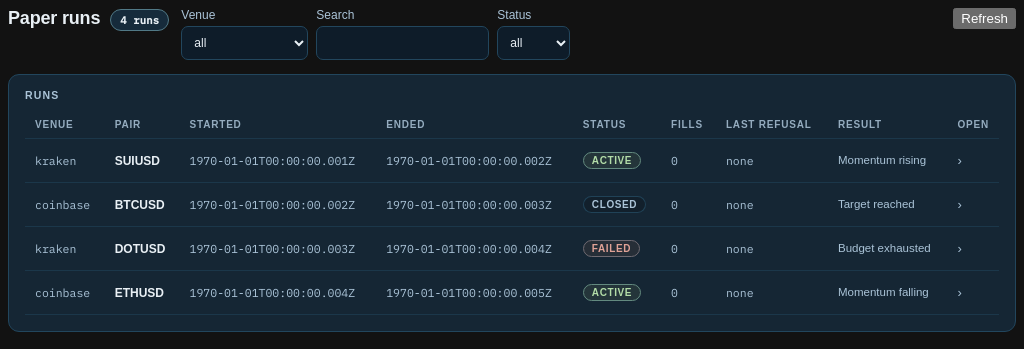
Test: LastRunsPanel read-only filters › clears all dimensions, restores rows, hides Clear and never re-fetches or mutates source
The width and height of the screenshot is (1024, 349).
Expected: the table with test id "paper-last-runs-table" is shown, [25, 111, 999, 315]
Select "Venue: kraken" in the dropdown named "Filter runs by venue": (245, 43) [181, 26, 308, 60]
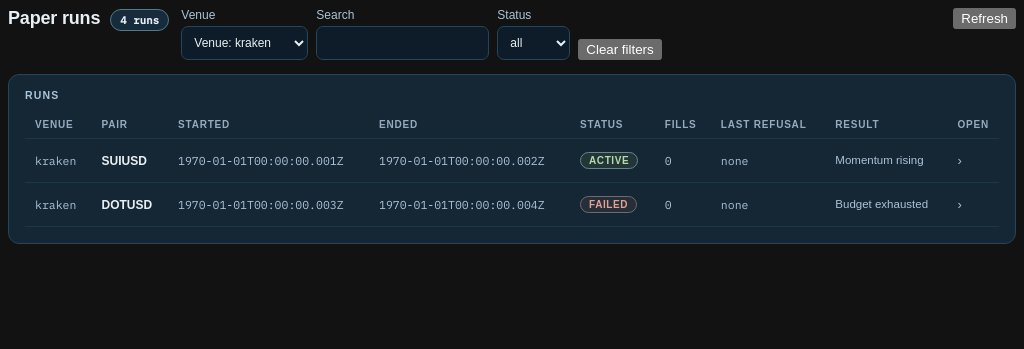
Select "failed" in the dropdown named "Filter runs by status": (534, 43) [497, 26, 570, 60]
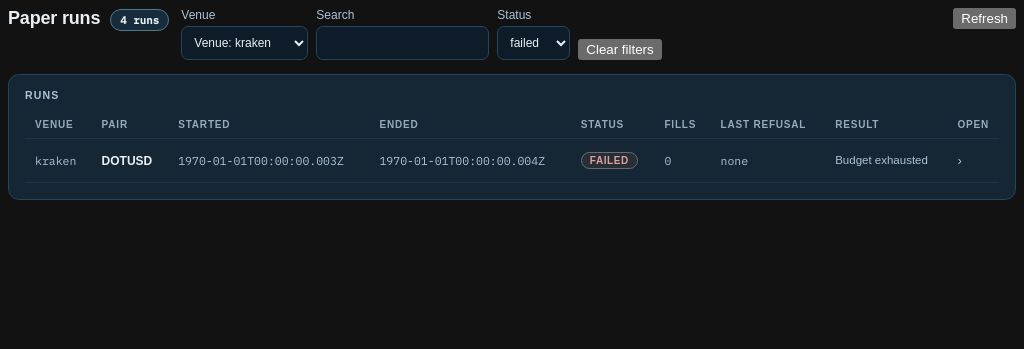
In the field named "Search runs by pack, pair or summary": (403, 43) [316, 26, 489, 60], type "budget"
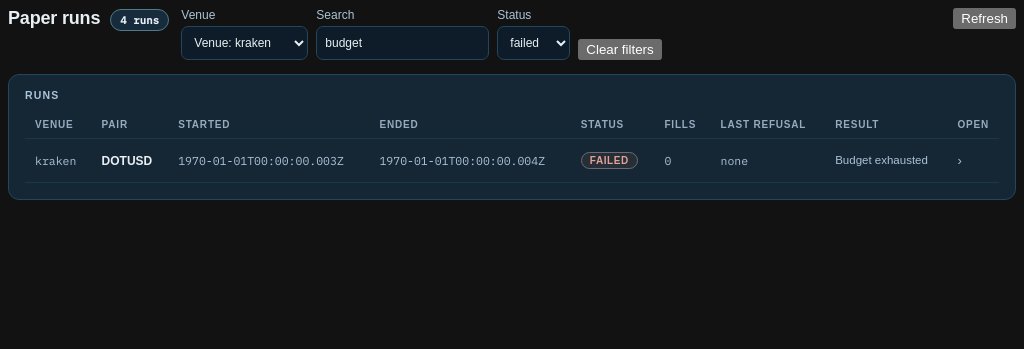
Expected: the number of rows named "Open run detail" is 1, [25, 138, 999, 182]
Click the button with test id "paper-last-runs-filter-clear": (620, 50) [578, 39, 662, 60]
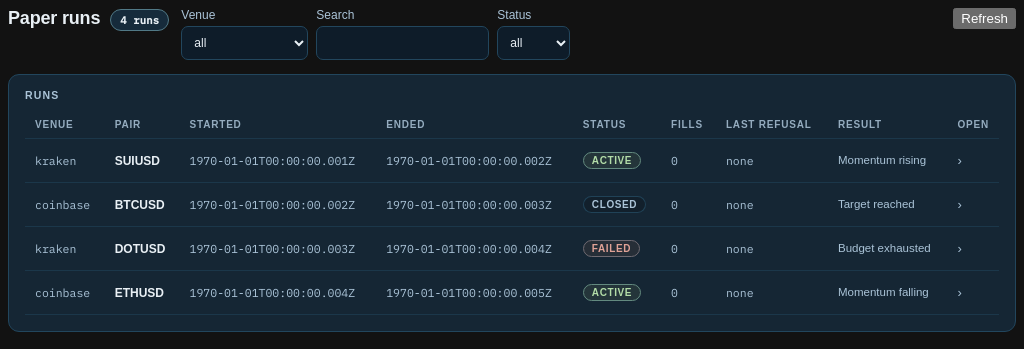
Expected: the number of rows named "Open run detail" is 4, [25, 138, 999, 182]; [25, 182, 999, 226]; [25, 226, 999, 270]; [25, 270, 999, 314]
Expected: the field named "Search runs by pack, pair or summary" is empty, [316, 26, 489, 60]
Expected: the button with test id "paper-last-runs-filter-clear" is gone
